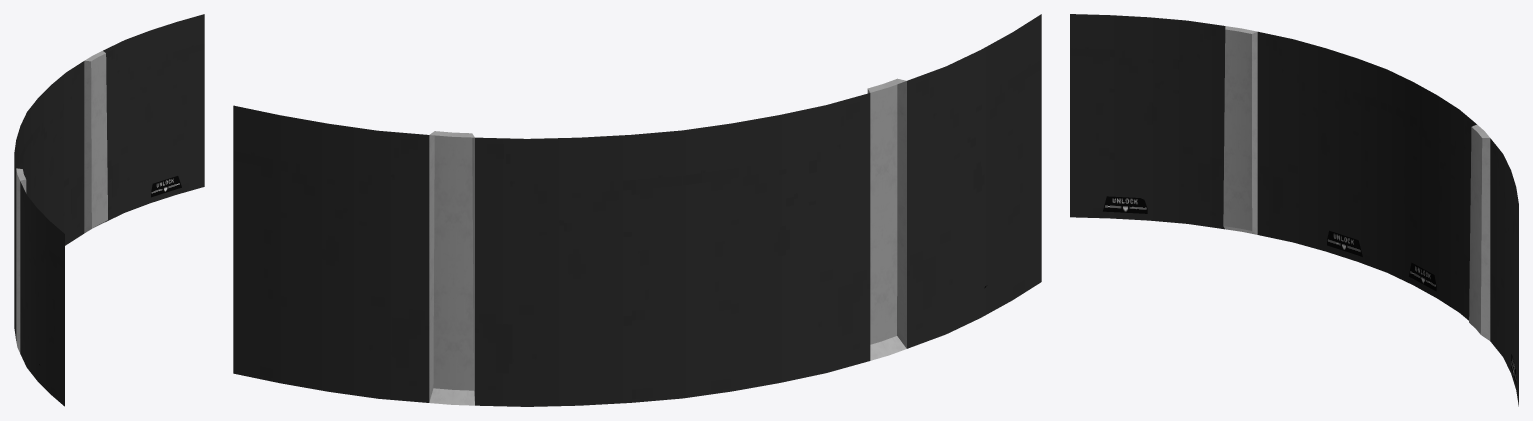
The model's file is TopAstra_Corner_Round_Inner.glb.
3 renders of one model, left to right at view 1: azimuth 30°, elevation 25°; view 2: azimuth 150°, elevation 25°; view 3: azimuth 270°, elevation 25°, orthographic. The views are drawn at different scales.
Visible parts, largest first — view 1: TopAstra_Corner_Round_Inner; view 2: TopAstra_Corner_Round_Inner; view 3: TopAstra_Corner_Round_Inner.
Part boxes in pixels (x1,y1,x2,y2): TopAstra_Corner_Round_Inner: (14,14,204,406); TopAstra_Corner_Round_Inner: (233,14,1041,406); TopAstra_Corner_Round_Inner: (1070,14,1518,406).
Bounding box in the file's own units: 4 × 2 × 4.
Materials: 3 (3 with a texture image).
